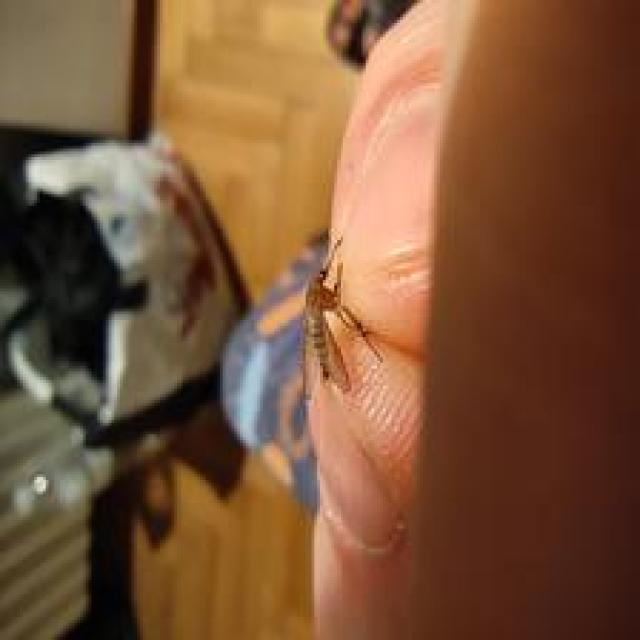Culex: (296, 233, 384, 407)
